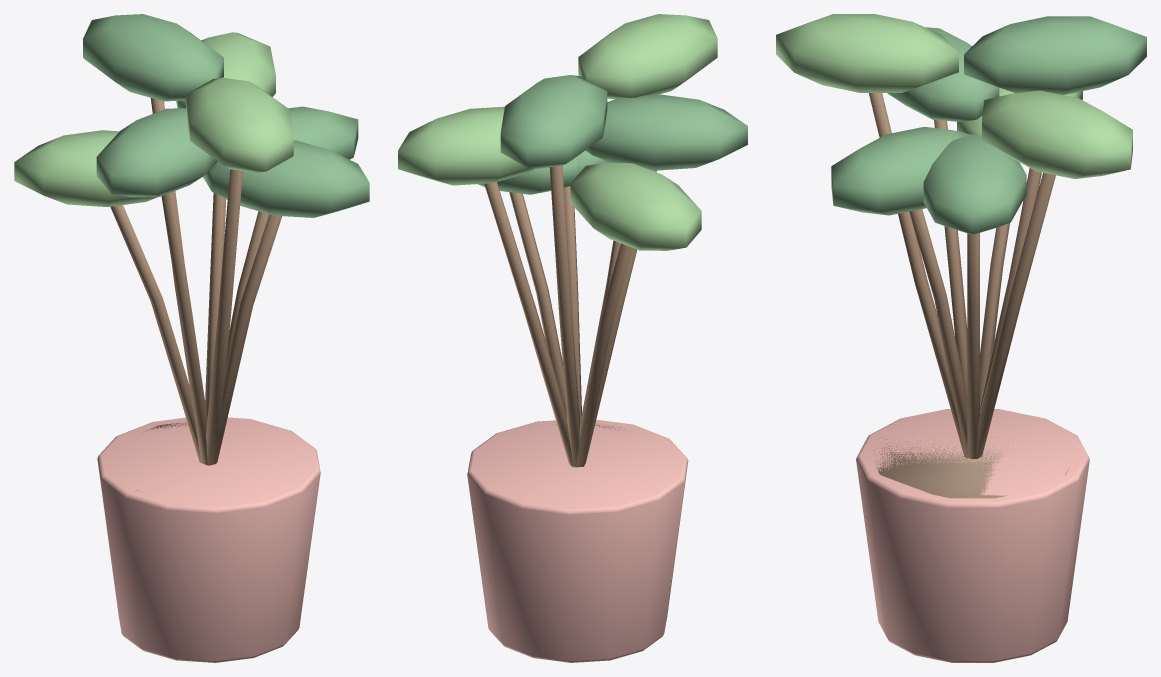
File: planta_grande.glb
3 renders of one model, left to right at view 1: azimuth 30°, elevation 25°; view 2: azimuth 150°, elevation 25°; view 3: azimuth 270°, elevation 25°, orthographic. The views are drawn at different scales.
Visible parts, largest first — view 1: planta_grande; view 2: planta_grande; view 3: planta_grande.
Boxes of the visible parts, <box> form: planta_grande: <box>14,14,369,662</box>; planta_grande: <box>398,14,747,662</box>; planta_grande: <box>776,14,1146,662</box>.
Size of the model in its own units: 0.7669 by 1.4 by 0.7891.
